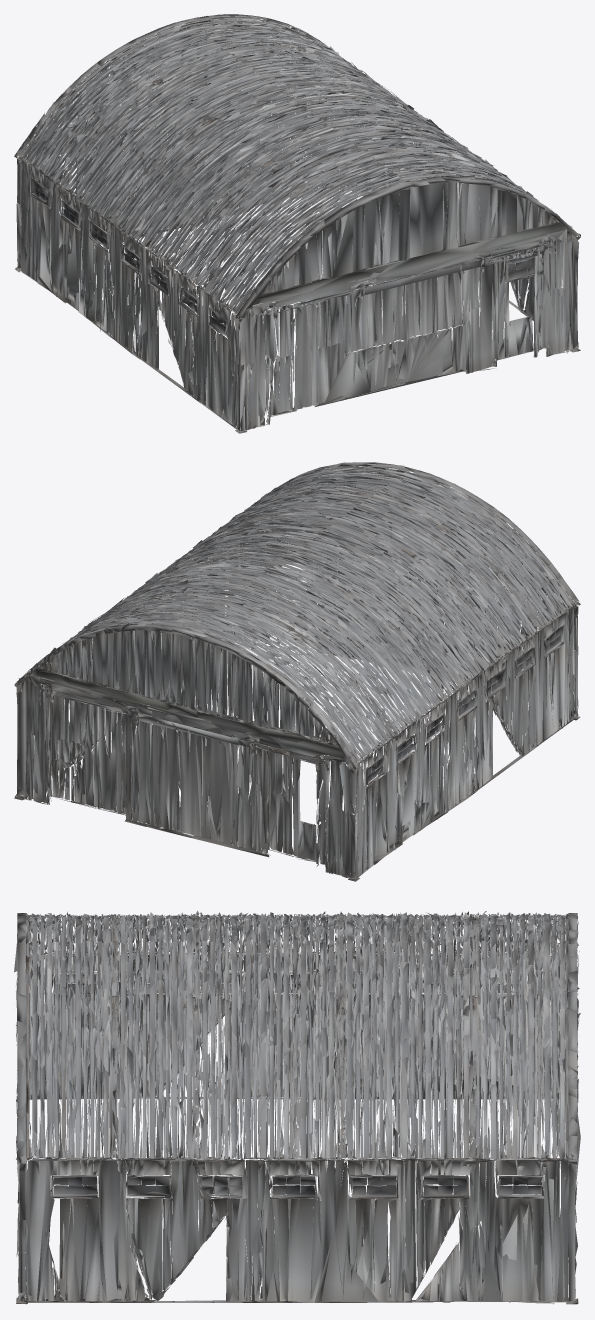
The model's file is hangar.glb.
3 renders of one model, top to bottom at view 1: azimuth 30°, elevation 25°; view 2: azimuth 150°, elevation 25°; view 3: azimuth 270°, elevation 25°, orthographic. The views are drawn at different scales.
Visible parts, largest first — view 1: LO.001; view 2: LO.001; view 3: LO.001.
Boxes of the visible parts, x1,y1,x2,y2 form: LO.001: (14,14,580,433); LO.001: (14,462,580,881); LO.001: (14,910,580,1304).
Bounding box in the file's own units: 1.68 × 0.9957 × 1.92.
Materials: 1 (1 with a texture image).
